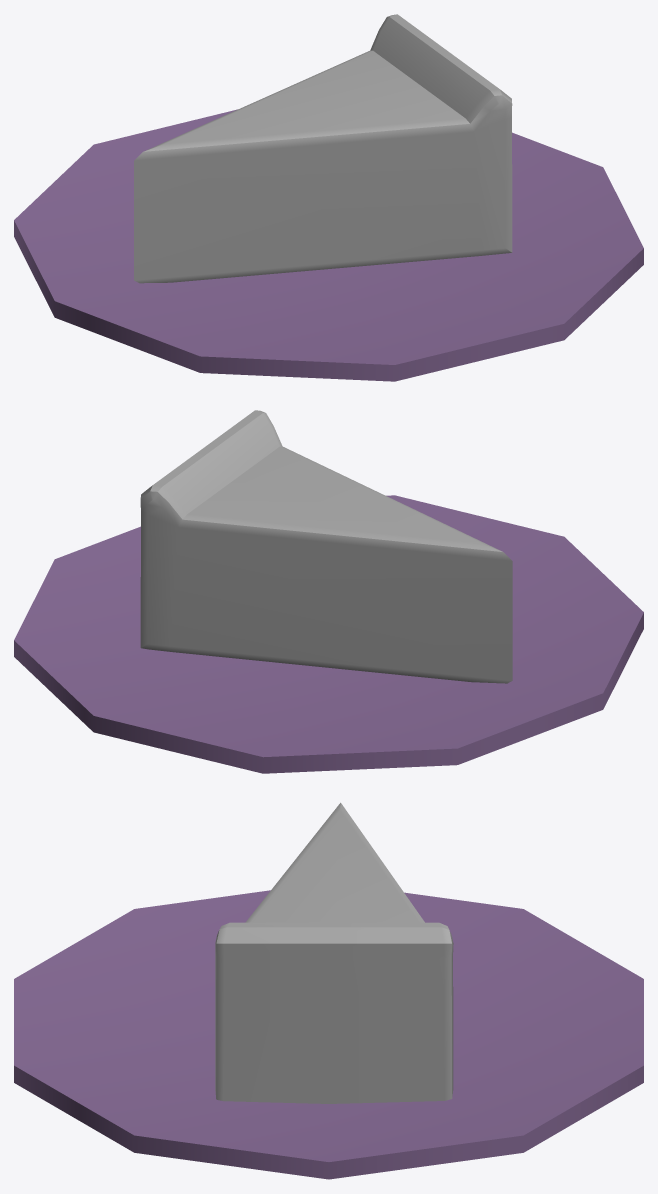
Rendered from Plato_Acelga.fbx.
The picture shows the model from 3 angles, top to bottom: view 1: azimuth 30°, elevation 25°; view 2: azimuth 150°, elevation 25°; view 3: azimuth 270°, elevation 25°; orthographic projection. The views are drawn at different scales.
Parts seen in each view (by area): view 1: Plato_Acelga; view 2: Plato_Acelga; view 3: Plato_Acelga.
Boxes of the visible parts, x1=… form: Plato_Acelga: x1=14, y1=14, x2=643, y2=381; Plato_Acelga: x1=14, y1=410, x2=643, y2=773; Plato_Acelga: x1=14, y1=802, x2=643, y2=1179.
Size of the model in its own units: 2.27 by 0.8183 by 2.15.
